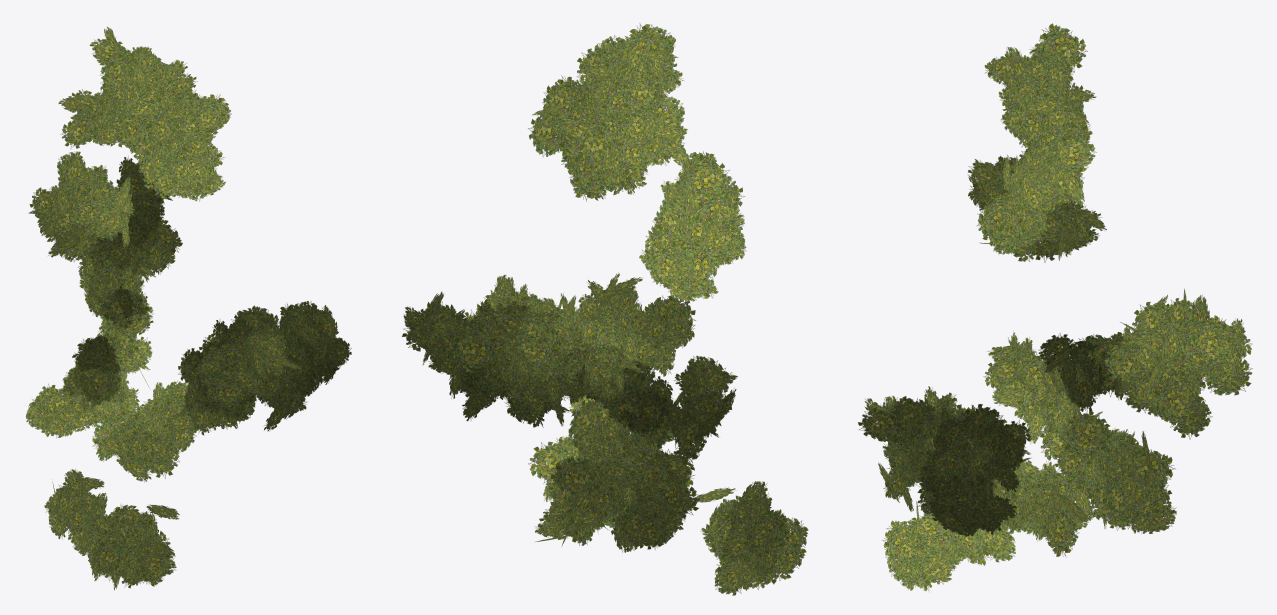
The model's file is birch1_leaves.glb.
The picture shows the model from 3 angles, left to right: view 1: azimuth 30°, elevation 25°; view 2: azimuth 150°, elevation 25°; view 3: azimuth 270°, elevation 25°; orthographic projection. The views are drawn at different scales.
Parts seen in each view (by area): view 1: leaves; view 2: leaves; view 3: leaves.
Part boxes in pixels (x1,y1,x2,y2): leaves: (26, 26, 351, 590); leaves: (402, 23, 808, 595); leaves: (858, 23, 1252, 592).
Bounding box in the file's own units: 5.53 × 9.08 × 5.75.
1 material, 1 textured.
